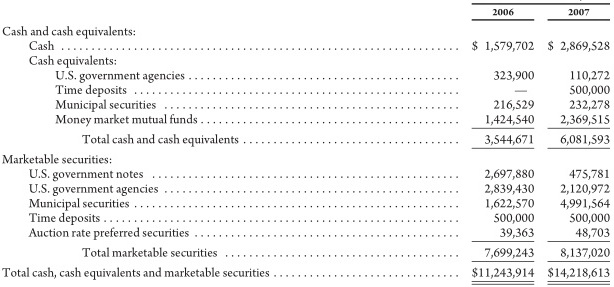column: (2, 1, 459, 287), (471, 1, 535, 287), (547, 1, 610, 287)
row: (1, 26, 614, 39), (1, 84, 614, 97), (1, 99, 614, 112), (1, 168, 614, 181), (1, 183, 614, 196), (1, 198, 614, 211), (1, 212, 614, 225), (1, 40, 614, 52), (1, 55, 614, 67), (1, 70, 614, 82), (1, 227, 614, 239), (1, 267, 614, 279), (1, 114, 614, 125), (1, 134, 614, 145), (1, 154, 614, 165), (1, 247, 614, 258), (1, 6, 614, 16)
